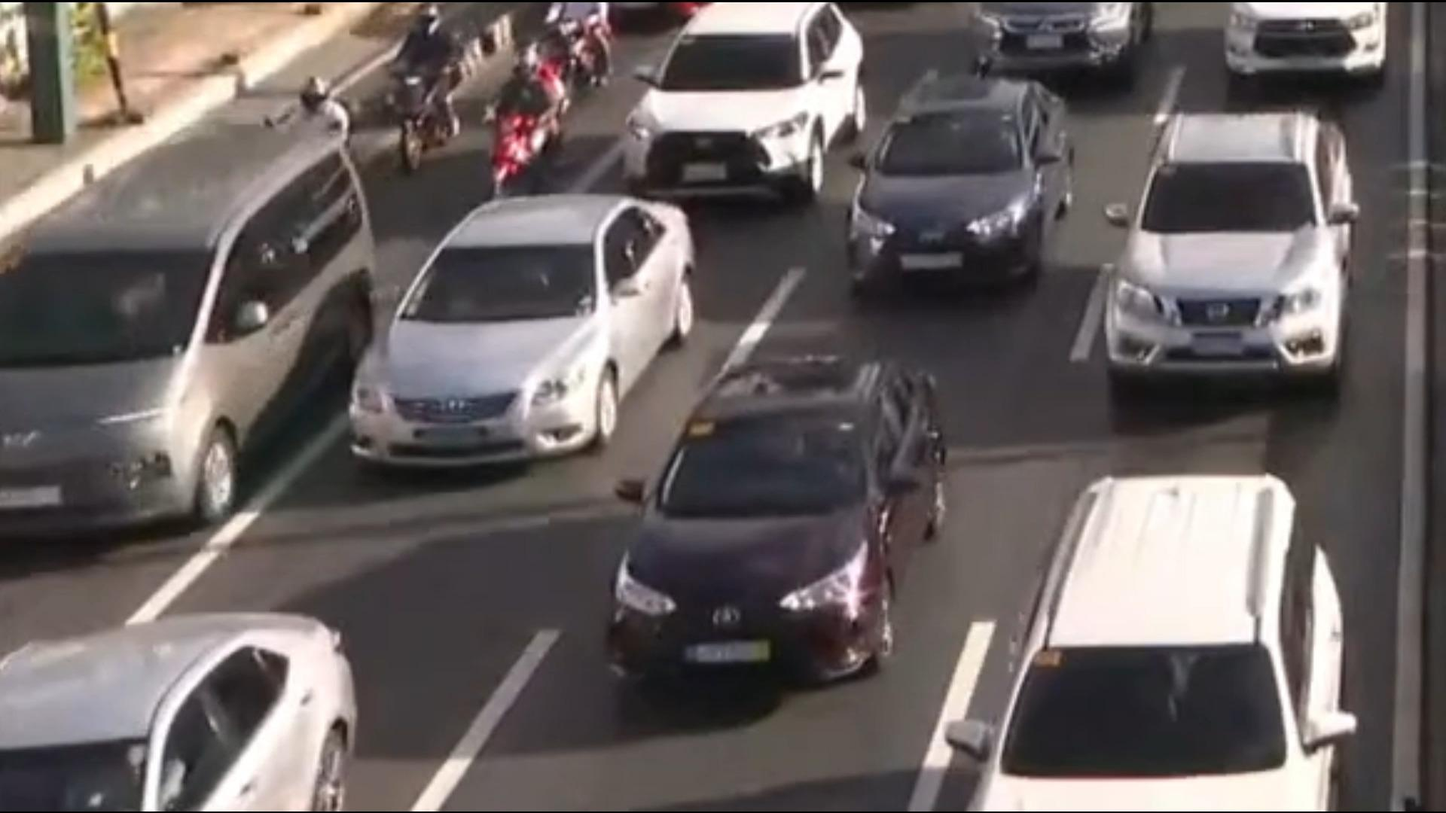Motorcycle: (376, 0, 477, 191), (460, 34, 578, 188), (542, 0, 641, 101), (262, 66, 371, 146)
Pickup: (1084, 111, 1386, 416)
SUV: (936, 428, 1409, 813), (617, 0, 893, 215), (965, 0, 1147, 94)
Sedan: (570, 343, 976, 697), (335, 172, 720, 489), (0, 588, 413, 813), (833, 70, 1087, 313)
Van: (0, 136, 394, 542)
